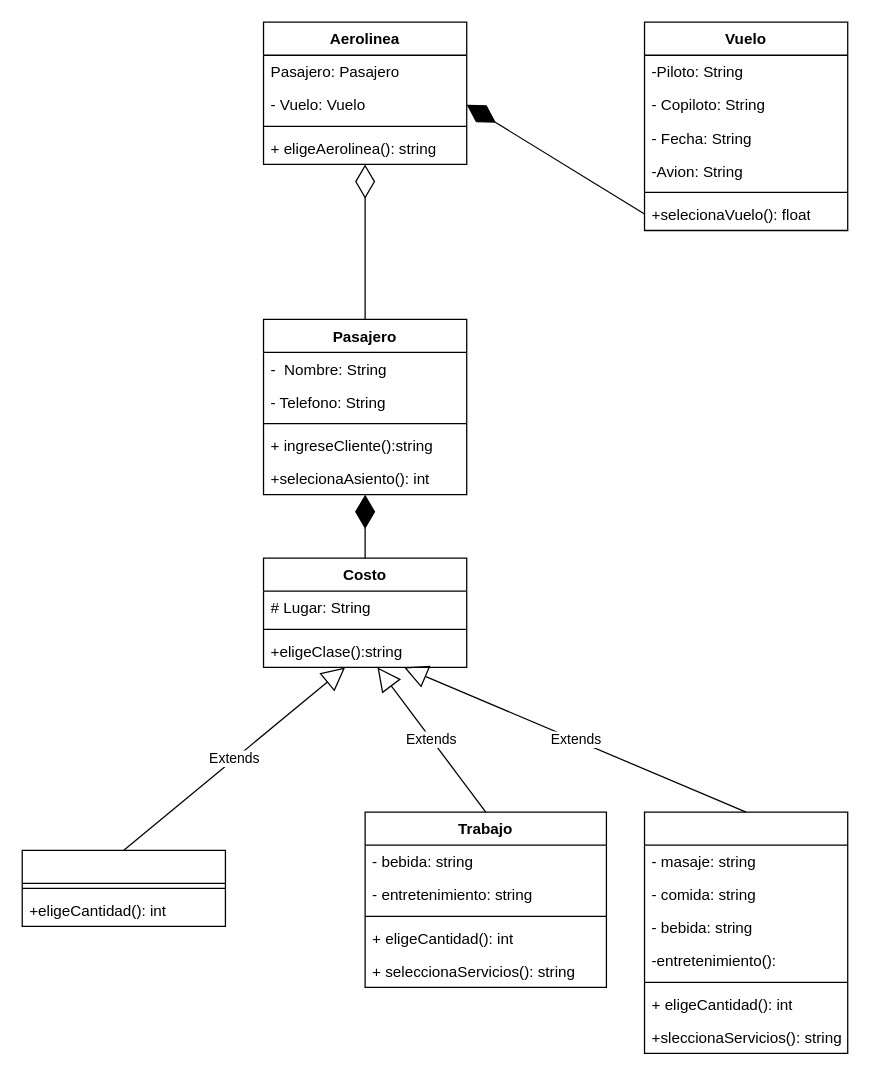
The diagram is 870 pixels wide and 1080 high, and some of its shapes have lost their labels. The shapes that lost their labels are listed below. From the top down, each one's box as (x1, y1, x2, y2) in pixels, then its label:
(21, 849, 225, 926): Comercial
(643, 811, 848, 1053): Premier
